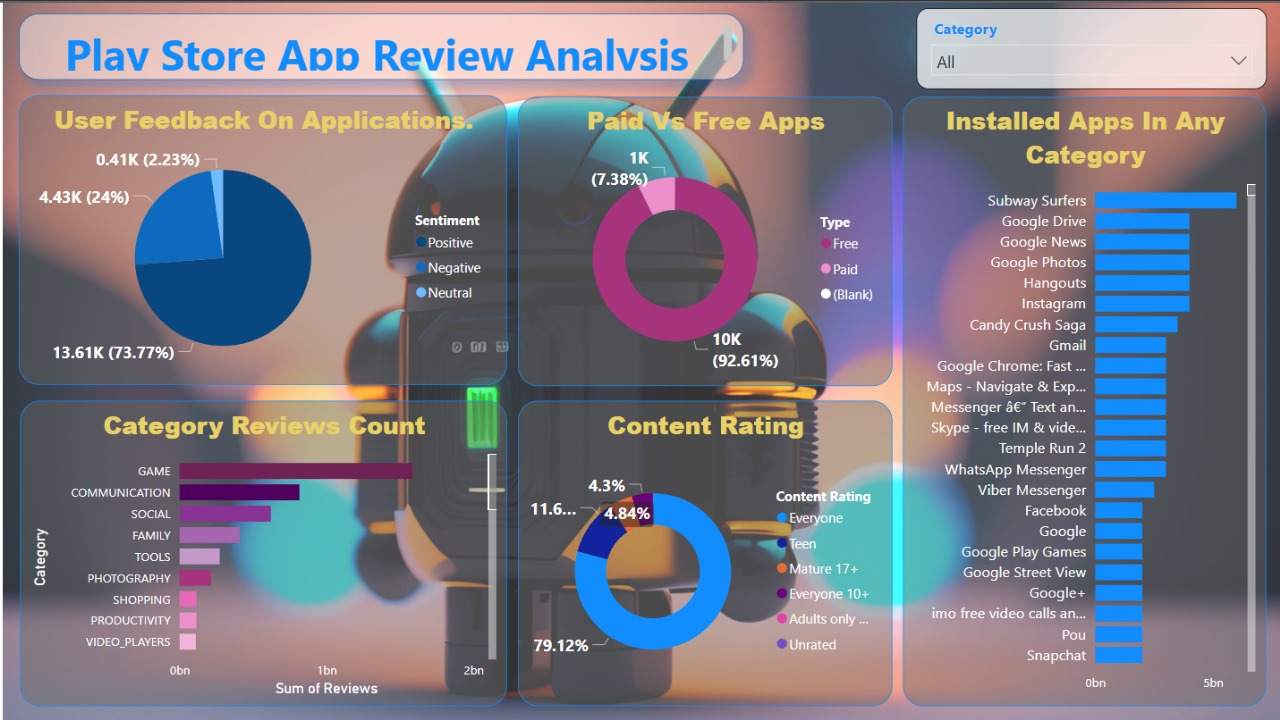

The dashboard page shown, as its layout file describes it:
{"tool":"powerbi","page":{"name":"Page 1","canvas":[1280,720],"ordinal":0},"visuals":[{"type":"pieChart","title":"User Feedback On Applications.","fields":{"Category":["USER_REVIEW_DATA.Sentiment"],"Y":["Sum(USER_REVIEW_DATA.Sentiment_Subjectivity)"]},"box":[15.9,92.2,489.5,290.9],"z":0},{"type":"donutChart","title":" Paid Vs Free Apps","fields":{"Category":["PLAY_STORE_DATA.Type"],"Y":["Sum(PLAY_STORE_DATA.Column)"]},"box":[516.6,93.8,375.1,290.9],"z":1000},{"type":"textbox","box":[15.9,11.1,726.4,66.8],"z":2000},{"type":"slicer","fields":{"Values":["PLAY_STORE_DATA.Category"]},"box":[915.5,4.8,351.3,81.1],"z":3000},{"type":"barChart","title":"Category Reviews Count","fields":{"Category":["PLAY_STORE_DATA.Category"],"Y":["Sum(PLAY_STORE_DATA.Reviews)"]},"box":[17.5,398.9,487.9,306.8],"z":4000},{"type":"barChart","title":"Installed Apps In Any Category","fields":{"Category":["PLAY_STORE_DATA.App"],"Y":["Sum(PLAY_STORE_DATA.Installs)"]},"box":[902.8,93.8,364,611.9],"z":4001},{"type":"donutChart","title":"Content Rating","fields":{"Y":["Sum(PLAY_STORE_DATA.Rating)"],"Category":["PLAY_STORE_DATA.Content Rating"]},"box":[516.6,398.9,375.1,306.8],"z":4002}]}

Visuals, with their boxes in screenshot pixels (x1, y1, x2, y2), scaled from the page's 1280x720 canvas onto the 1280x720 screenshot:
"User Feedback On Applications." pieChart: <box>16,92,505,383</box>
" Paid Vs Free Apps" donutChart: <box>517,94,892,385</box>
textbox: <box>16,11,742,78</box>
slicer - PLAY_STORE_DATA.Category: <box>916,5,1267,86</box>
"Category Reviews Count" barChart: <box>18,399,505,706</box>
"Installed Apps In Any Category" barChart: <box>903,94,1267,706</box>
"Content Rating" donutChart: <box>517,399,892,706</box>
